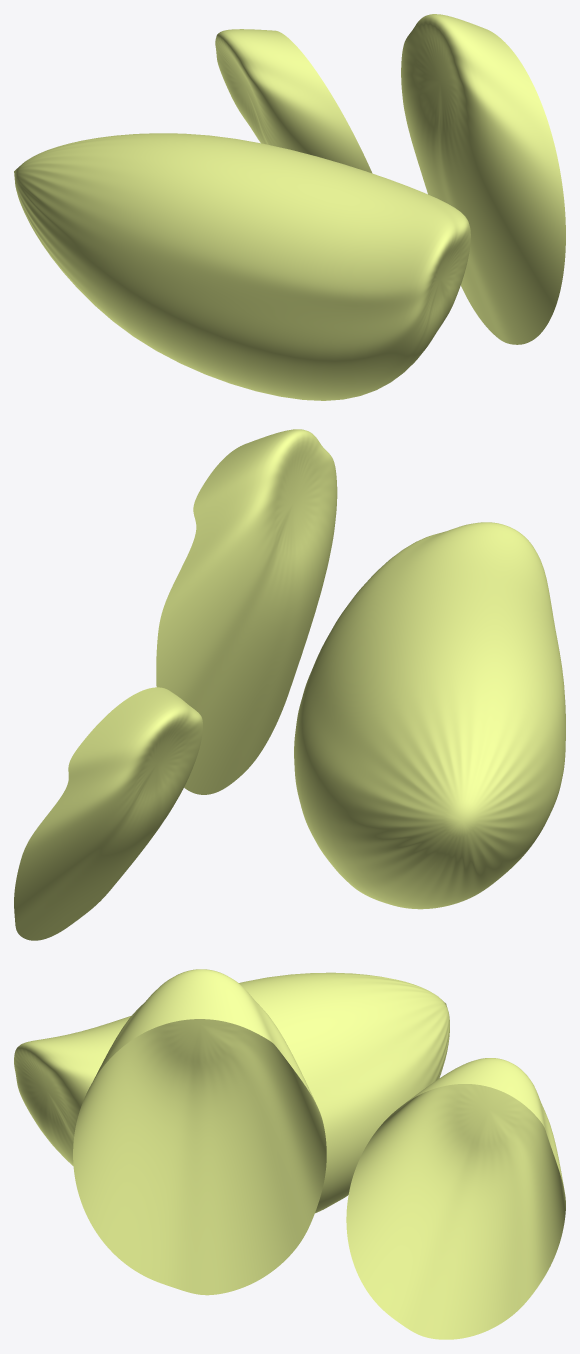
File: garliccut2.fbx
The picture shows the model from 3 angles, top to bottom: view 1: azimuth 30°, elevation 25°; view 2: azimuth 150°, elevation 25°; view 3: azimuth 270°, elevation 25°; orthographic projection. The views are drawn at different scales.
Visible parts, largest first — view 1: Cylinder.002; view 2: Cylinder.002; view 3: Cylinder.002.
Boxes of the visible parts, <box> form: Cylinder.002: <box>14,14,565,400</box>; Cylinder.002: <box>14,429,565,940</box>; Cylinder.002: <box>14,969,565,1339</box>.
Size of the model in its own units: 151 by 141 by 210.
